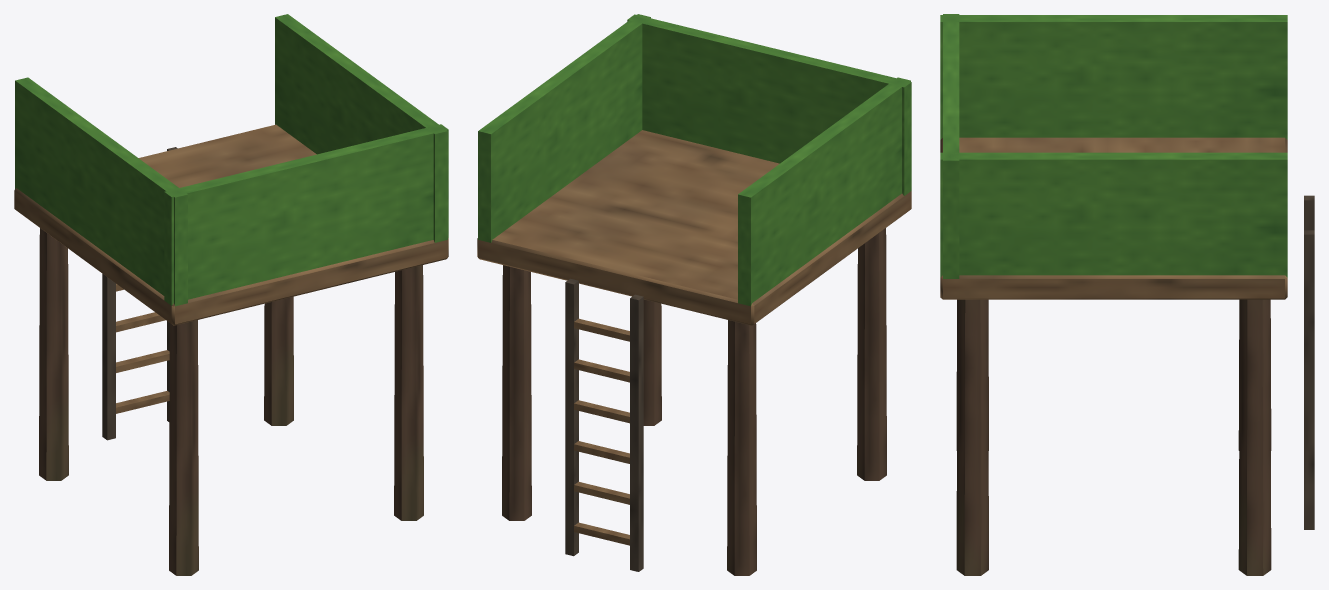
File: SM_POI_HuntingBlind.fbx
3 views of the same model, side by side, from view 1: azimuth 30°, elevation 25°; view 2: azimuth 150°, elevation 25°; view 3: azimuth 270°, elevation 25° (orthographic). The views are drawn at different scales.
Visible parts, largest first — view 1: SM_POI_HuntingBlind; view 2: SM_POI_HuntingBlind; view 3: SM_POI_HuntingBlind.
Boxes of the visible parts, left/top/right/bottom form: SM_POI_HuntingBlind: left=14, top=14, right=448, bottom=575; SM_POI_HuntingBlind: left=477, top=14, right=911, bottom=575; SM_POI_HuntingBlind: left=940, top=14, right=1314, bottom=575.
Bounding box in the file's own units: 6.4 × 8.6 × 6.9.
Materials: 1 (1 with a texture image).
